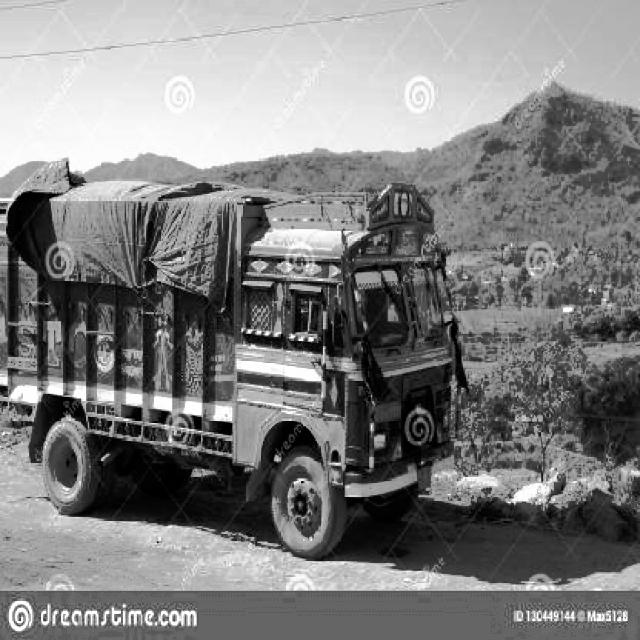HCV: (3, 142, 450, 536)
